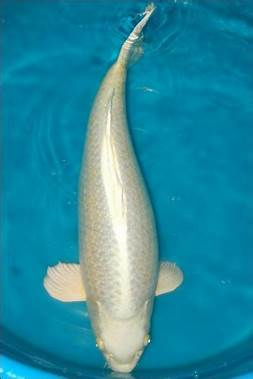white: (44, 4, 185, 373)
